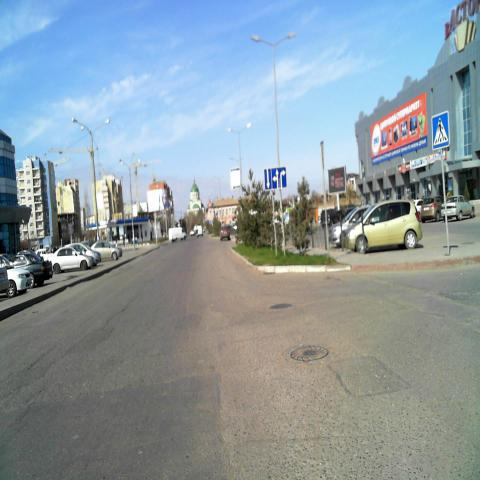5_15_7: (265, 168, 287, 191)
5_19_1: (432, 113, 450, 151)
